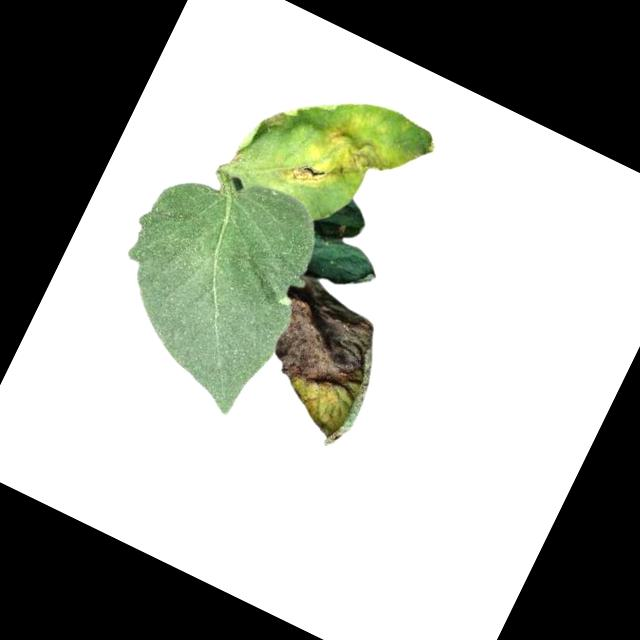Late_blight: (233, 268, 405, 453), (279, 105, 403, 221), (258, 96, 302, 139)
